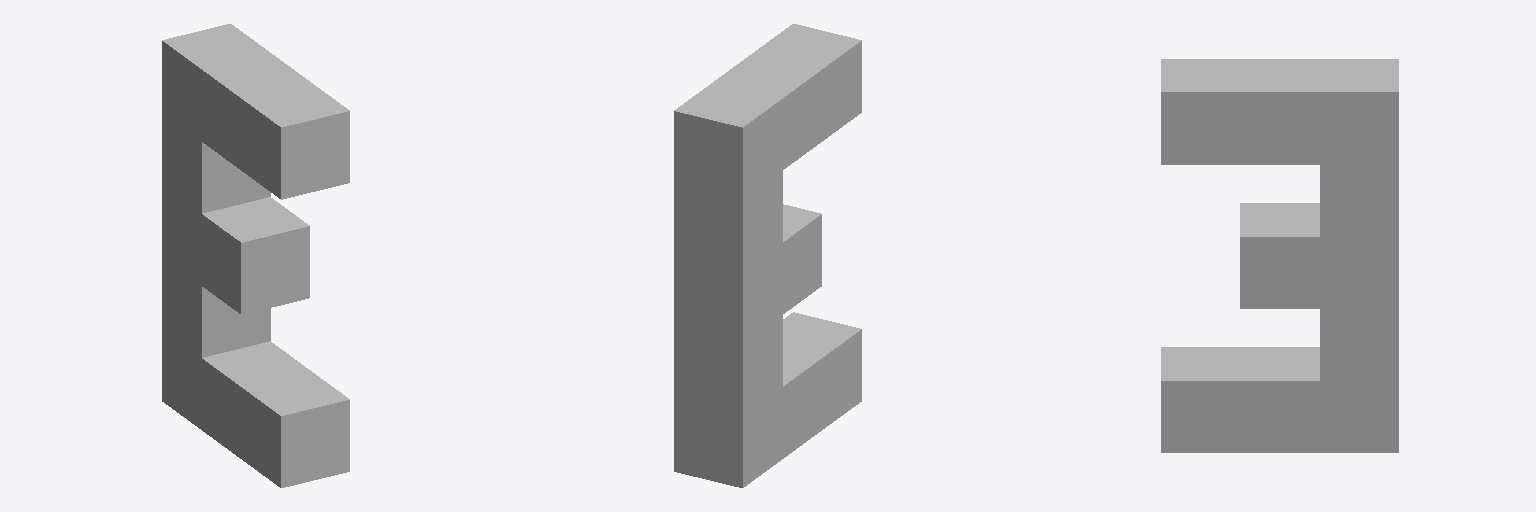
3 views of the same model, side by side, from view 1: azimuth 30°, elevation 25°; view 2: azimuth 150°, elevation 25°; view 3: azimuth 270°, elevation 25° (orthographic).
Visible parts, largest first — view 1: mesh[number redacted]; view 2: mesh[number redacted]; view 3: mesh[number redacted].
Boxes of the visible parts, x1=… form: mesh[number redacted]: x1=162, y1=24, x2=349, y2=487; mesh[number redacted]: x1=674, y1=24, x2=861, y2=487; mesh[number redacted]: x1=1161, y1=59, x2=1398, y2=452.
Size of the model in its own units: 0.02 by 0.1 by 0.06.